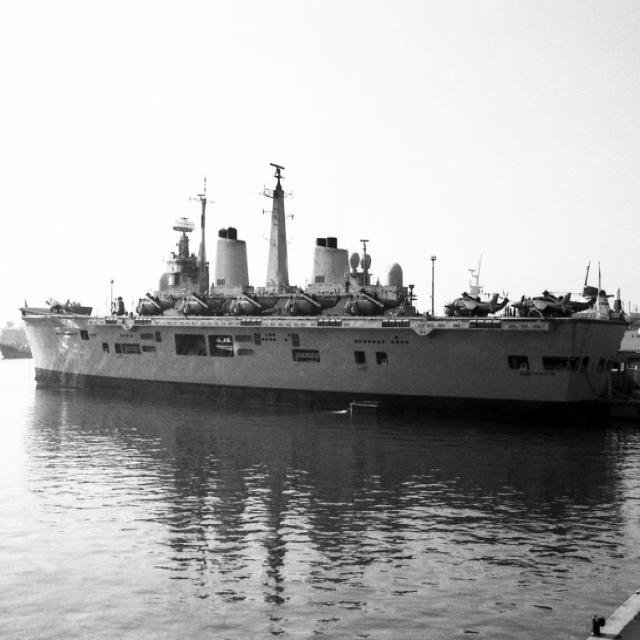Portanaves: (15, 158, 632, 431)
